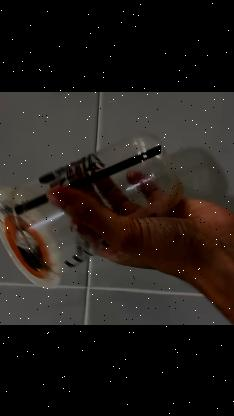Others: (0, 129, 187, 289)
